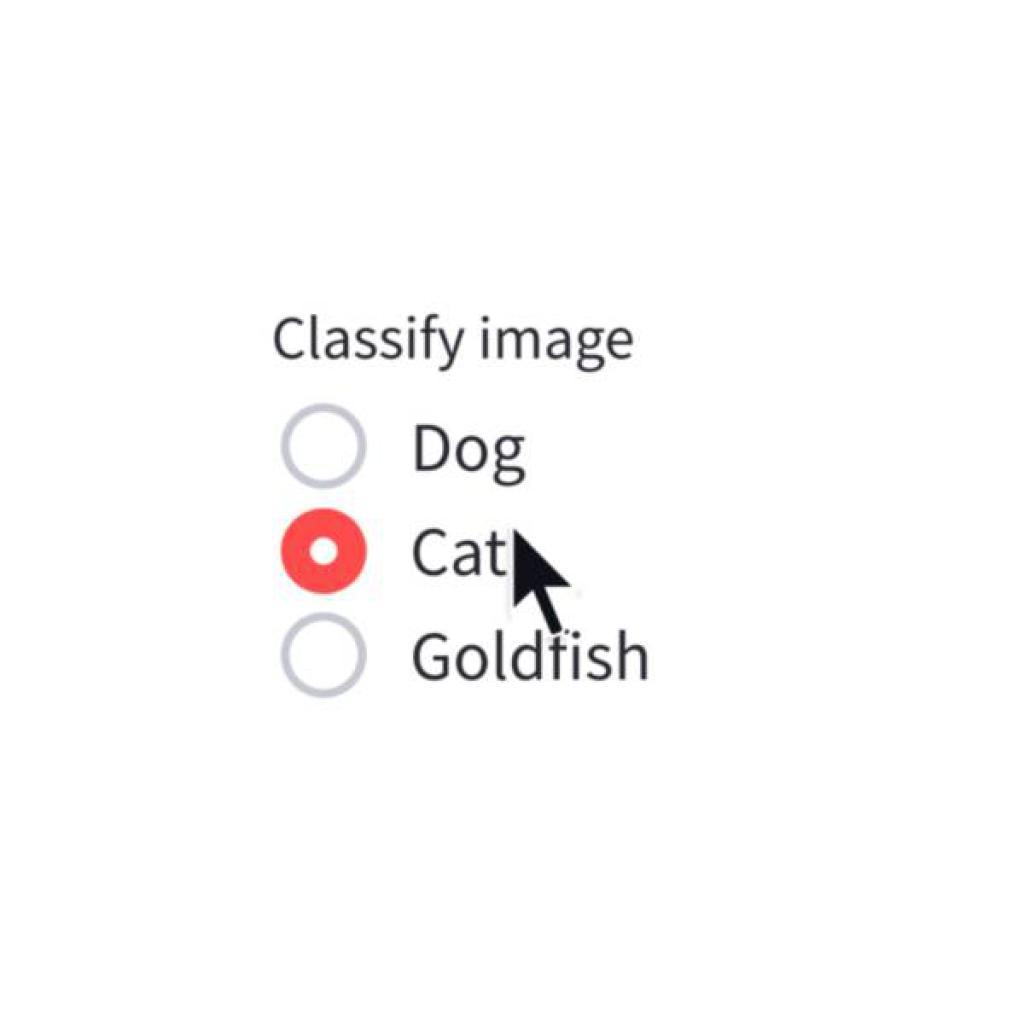label: (411, 624, 652, 692), (412, 417, 531, 494), (412, 518, 513, 585)
radio: (278, 400, 369, 496), (277, 613, 372, 704), (280, 507, 370, 600)
